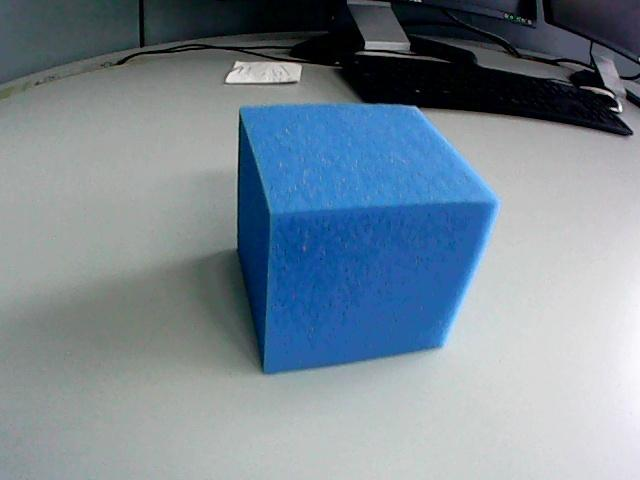blue_block: (238, 104, 498, 372)
